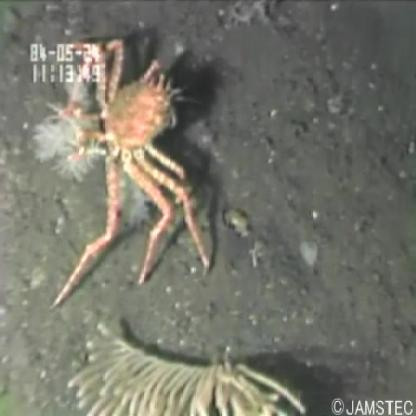Bio: (28, 35, 213, 312), (62, 316, 309, 416)
